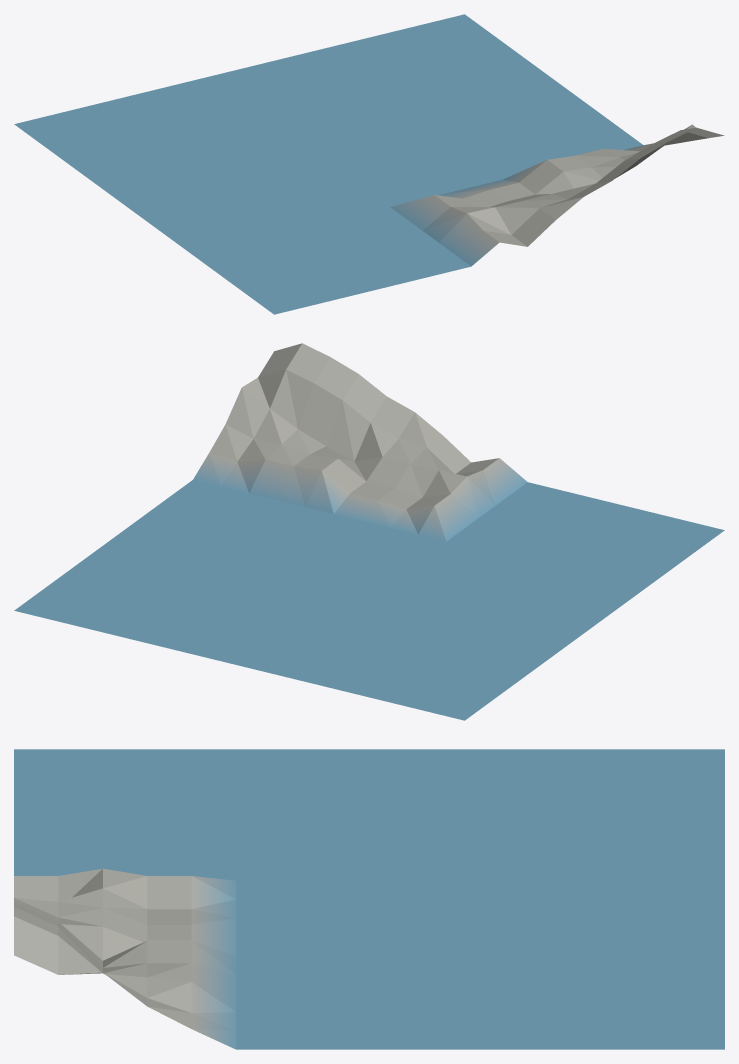
3 views of the same model, one above another, from view 1: azimuth 30°, elevation 25°; view 2: azimuth 150°, elevation 25°; view 3: azimuth 270°, elevation 25° (orthographic). The views are drawn at different scales.
Bounding box in the file's own units: 32 × 5.69 × 32.
